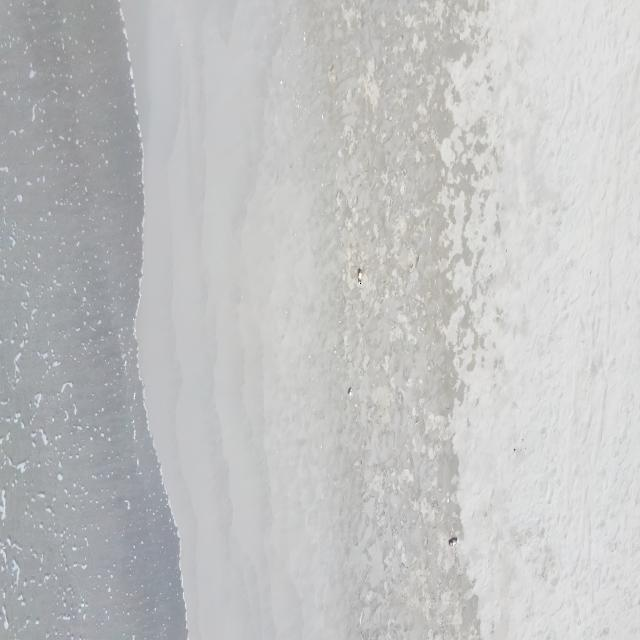glass: (447, 537, 460, 548), (358, 268, 362, 287), (348, 386, 353, 399)
